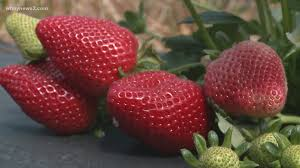ripe: (104, 66, 214, 148), (0, 58, 103, 140), (205, 37, 288, 126), (37, 16, 143, 79)
unripe: (4, 7, 50, 65), (250, 131, 300, 162), (200, 144, 243, 168)
